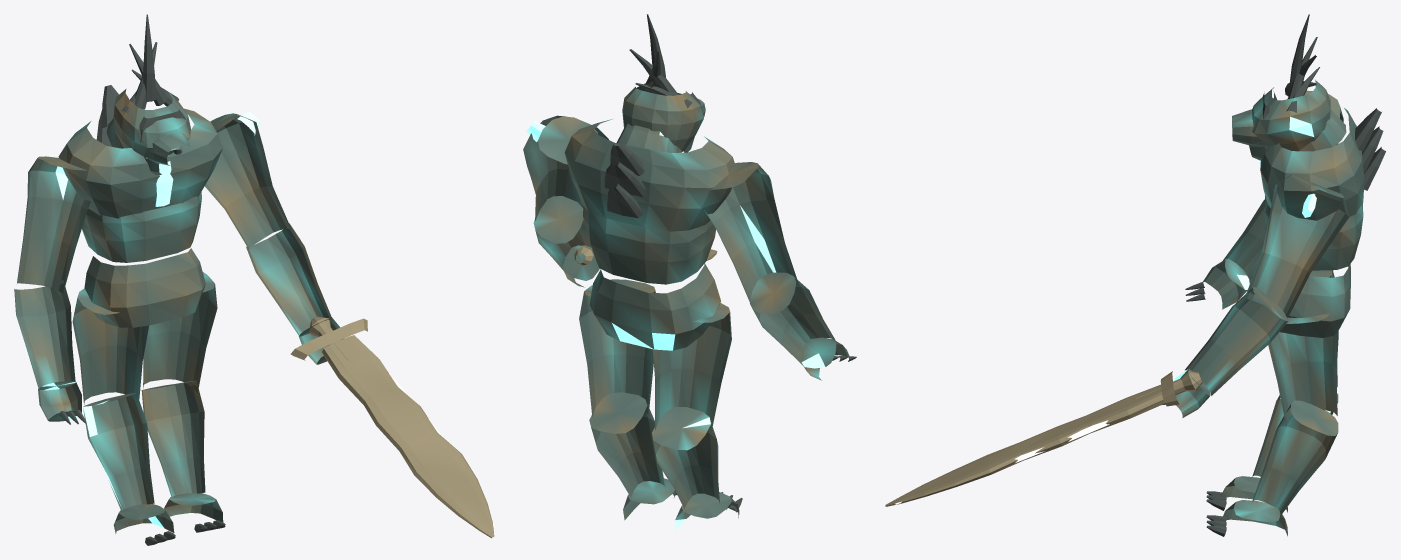
The model's file is devi_v2.glb.
3 views of the same model, side by side, from view 1: azimuth 30°, elevation 25°; view 2: azimuth 150°, elevation 25°; view 3: azimuth 270°, elevation 25° (orthographic). The views are drawn at different scales.
Parts seen in each view (by area): view 1: blade_bronze, ribcage_patina, pelvis_patina, pauldron_l_patina, pauldron_r_patina, shin_r_patina, thigh_l_patina, belly_patina, shin_l_patina, forearm_l_patina, forearm_r_patina, thigh_r_patina (+8 smaller); view 2: ribcage_patina, pelvis_patina, belly_patina, pauldron_l_patina, thigh_l_patina, shin_r_patina, thigh_r_patina, shin_l_patina, forearm_l_patina, pauldron_r_patina, skull_patina, forearm_r_patina (+12 smaller); view 3: ribcage_patina, pauldron_r_patina, shin_r_patina, blade_bronze, forearm_r_patina, thigh_r_patina, skull_patina, pelvis_patina, belly_patina, forearm_l_patina, hand_l_patina, foot_r_geo_patina (+5 smaller).
Part boxes in pixels (x1,y1,x2,y2): blade_bronze: (322, 335, 494, 538); ribcage_patina: (58, 108, 222, 218); pelvis_patina: (84, 248, 205, 327); pauldron_l_patina: (17, 156, 90, 293); pauldron_r_patina: (205, 113, 291, 249); shin_r_patina: (141, 380, 205, 497); thigh_l_patina: (72, 288, 148, 405); belly_patina: (82, 191, 201, 262); shin_l_patina: (83, 393, 154, 511); forearm_l_patina: (14, 280, 75, 389); forearm_r_patina: (246, 223, 332, 336); thigh_r_patina: (143, 272, 217, 392); ribcage_patina: (564, 119, 734, 231); pelvis_patina: (589, 263, 720, 350); belly_patina: (583, 206, 715, 284); pauldron_l_patina: (704, 162, 798, 306); thigh_l_patina: (652, 303, 731, 433); shin_r_patina: (589, 392, 665, 498); thigh_r_patina: (579, 279, 655, 417); shin_l_patina: (652, 407, 719, 509); forearm_l_patina: (750, 272, 835, 365); pauldron_r_patina: (523, 115, 608, 221); skull_patina: (622, 87, 703, 151); forearm_r_patina: (533, 196, 591, 271); ribcage_patina: (1260, 108, 1364, 220); pauldron_r_patina: (1244, 174, 1349, 317); shin_r_patina: (1252, 400, 1338, 516); blade_bronze: (885, 384, 1164, 506); forearm_r_patina: (1185, 287, 1288, 395); thigh_r_patina: (1268, 313, 1338, 427); skull_patina: (1252, 80, 1330, 151); pelvis_patina: (1280, 264, 1350, 337); belly_patina: (1265, 195, 1363, 270); forearm_l_patina: (1223, 199, 1265, 283); hand_l_patina: (1203, 258, 1247, 309); foot_r_geo_patina: (1222, 500, 1287, 536).
Size of the model in its own units: 3.53 by 5.5 by 4.86.
